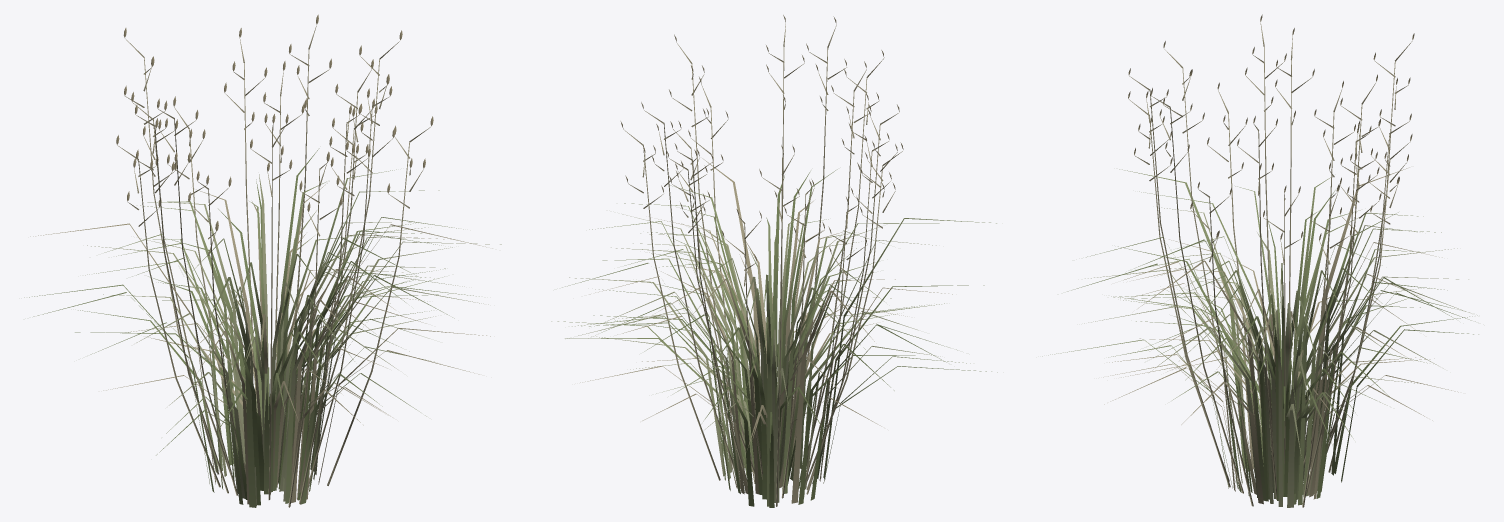
Rendered from deschampsia.glb.
3 renders of one model, left to right at view 1: azimuth 30°, elevation 25°; view 2: azimuth 150°, elevation 25°; view 3: azimuth 270°, elevation 25°, orthographic. The views are drawn at different scales.
Visible parts, largest first — view 1: B_Deschampsia_MediumOriginalTussock; view 2: B_Deschampsia_MediumOriginalTussock; view 3: B_Deschampsia_MediumOriginalTussock.
Boxes of the visible parts, x1,y1,x2,y2 form: B_Deschampsia_MediumOriginalTussock: [24, 14, 501, 507]; B_Deschampsia_MediumOriginalTussock: [551, 15, 997, 507]; B_Deschampsia_MediumOriginalTussock: [1042, 14, 1478, 507].
Size of the model in its own units: 1.05 by 0.9992 by 0.9694.
